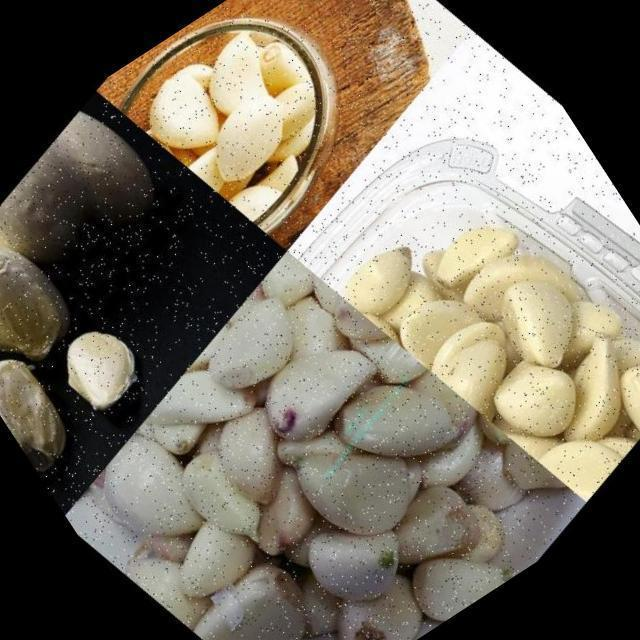garlic: (9, 189, 596, 640), (308, 114, 640, 553), (103, 0, 390, 255), (0, 81, 212, 356), (0, 315, 111, 484), (0, 203, 96, 397), (31, 300, 166, 436), (0, 269, 21, 394)
